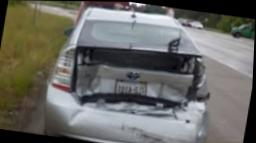Bumper: (54, 99, 205, 143)
Dickey: (71, 63, 196, 126)
